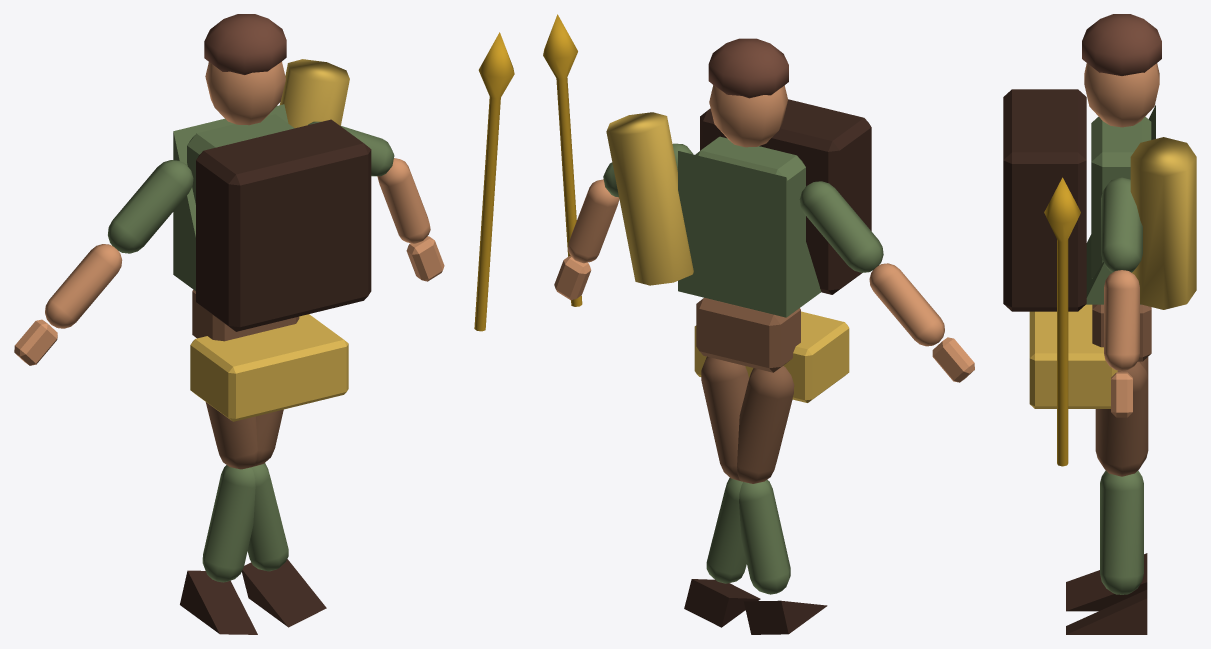
The model's file is adventurer.rustic.glb.
The picture shows the model from 3 angles, left to right: view 1: azimuth 30°, elevation 25°; view 2: azimuth 150°, elevation 25°; view 3: azimuth 270°, elevation 25°; orthographic projection. The views are drawn at different scales.
Parts seen in each view (by area): view 1: accessory.body, accessory.waist, shin.right, accessory.main-hand, upper-arm.left, hair, accessory.back, head, forearm.left, foot.left, foot.right, tunic (+9 smaller); view 2: tunic, accessory.back, accessory.body, pelvis, thigh.left, accessory.waist, shin.right, upper-arm.left, hair, thigh.right, head, accessory.main-hand (+8 smaller); view 3: accessory.body, accessory.back, accessory.waist, shin.left, accessory.main-hand, hair, thigh.right, torso, head, forearm.right, upper-arm.right, foot.left (+4 smaller).
Part boxes in pixels (x1,y1,x2,y2): accessory.body: (196,119,371,331); accessory.waist: (190,314,348,421); shin.right: (202,465,255,582); accessory.main-hand: (474,32,514,331); upper-arm.left: (108,160,193,253); hair: (204,14,286,74); accessory.back: (280,59,349,128); head: (205,61,285,125); forearm.left: (45,244,122,328); foot.left: (242,559,326,627); foot.right: (180,570,257,634); tunic: (173,104,288,290); tunic: (678,151,821,317); accessory.back: (606,112,693,285); accessory.body: (700,99,871,294); pelvis: (696,297,800,372); thigh.left: (737,366,794,483); accessory.waist: (694,311,849,402); shin.right: (739,479,790,594); upper-arm.left: (799,181,883,272); hair: (708,38,788,98); thigh.right: (701,356,748,481); head: (709,85,787,147); accessory.main-hand: (543,14,582,306); accessory.body: (1003,89,1086,311); accessory.back: (1130,137,1196,309); accessory.waist: (1029,304,1117,408); shin.left: (1100,471,1143,594); accessory.main-hand: (1044,177,1080,466); hair: (1082,14,1161,75); thigh.right: (1095,361,1148,476); torso: (1091,116,1151,278); head: (1084,63,1159,127); forearm.right: (1104,270,1139,371); upper-arm.right: (1101,177,1142,272); foot.left: (1066,590,1147,634).
Size of the model in its own units: 2.48 by 3.01 by 0.88.
